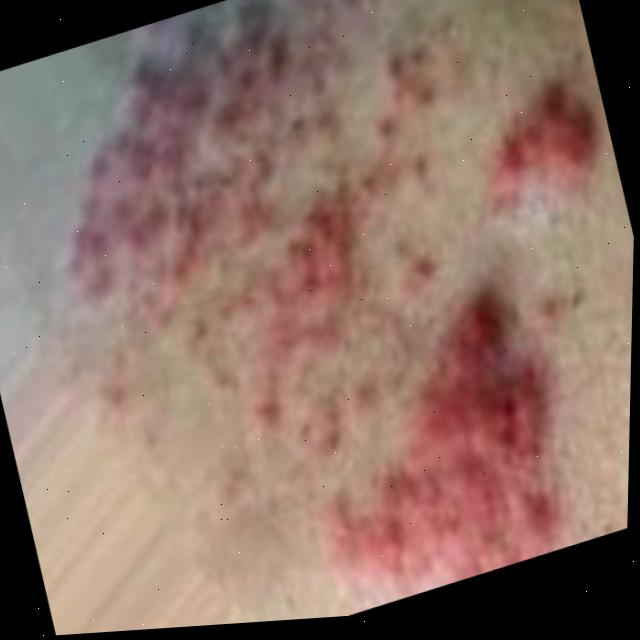Shingles: (2, 0, 640, 639)
